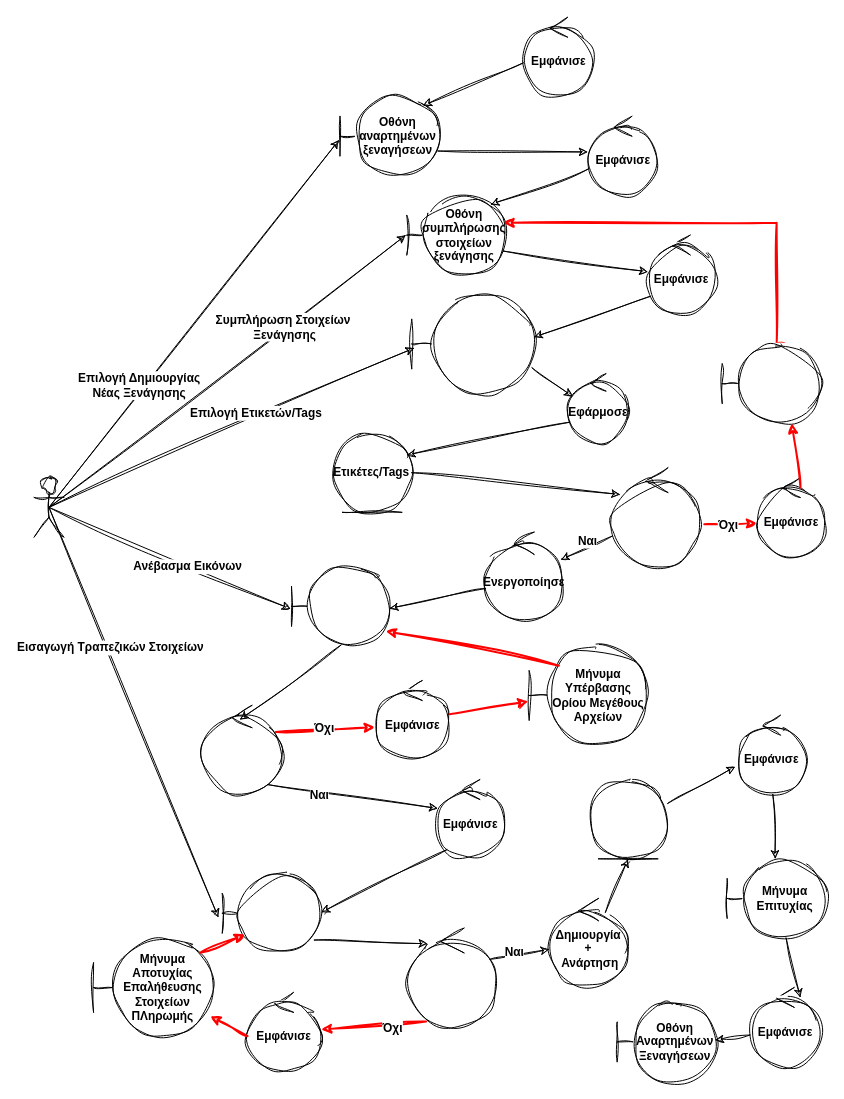
Image size: 844x1099. Some labels were removed from this diagram. Here are the shapes that lost their labels. From the top down, the centre of each, then its label:
At [473,344]: "Μήνυμα επιλογής ετικετών/tags".
At [771,383]: "Μήνυμα Αποτυχίας, Υπογράμμιση Ελλείψεων".
At [48,507]: "Ξεναγός".
At [656,517]: "Συμπλήρωση απαιτούμενων στοιχείων?".
At [341,606]: "Πεδίο για ανέβασμα εικόνων".
At [241,749]: "Μέγεθος αρχείων εντός ορίων?".
At [628,819]: "Ξενάγηση".
At [271,913]: "Οθόνη Εισαγωγής Τρόπου Πληρωμής".
At [452,977]: "Στοιχεία Πληρωμής Έγκυρα?".
